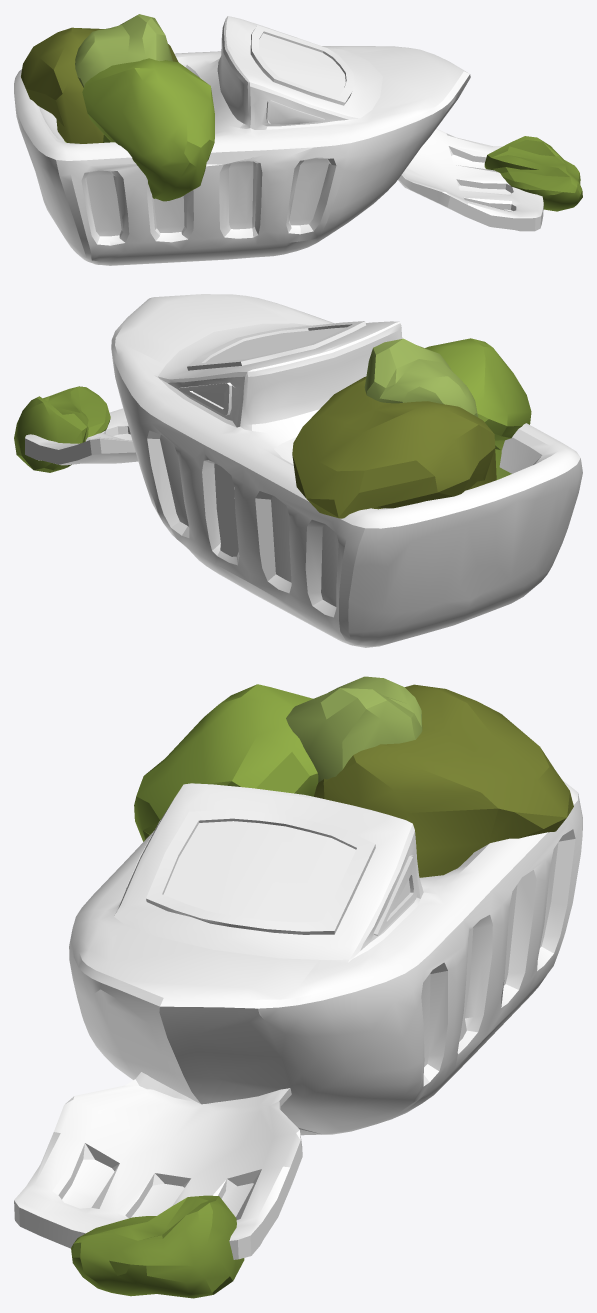
Rendered from skimmer.fbx.
3 views of the same model, one above another, from view 1: azimuth 30°, elevation 25°; view 2: azimuth 150°, elevation 25°; view 3: azimuth 270°, elevation 25° (orthographic). The views are drawn at different scales.
Parts seen in each view (by area): view 1: Skimmer; view 2: Skimmer; view 3: Skimmer.
Part boxes in pixels (x1=…): Skimmer: x1=14, y1=14, x2=582, y2=265; Skimmer: x1=14, y1=294, x2=582, y2=647; Skimmer: x1=14, y1=676, x2=582, y2=1298.
Size of the model in its own units: 0.7041 by 0.3041 by 0.453.
